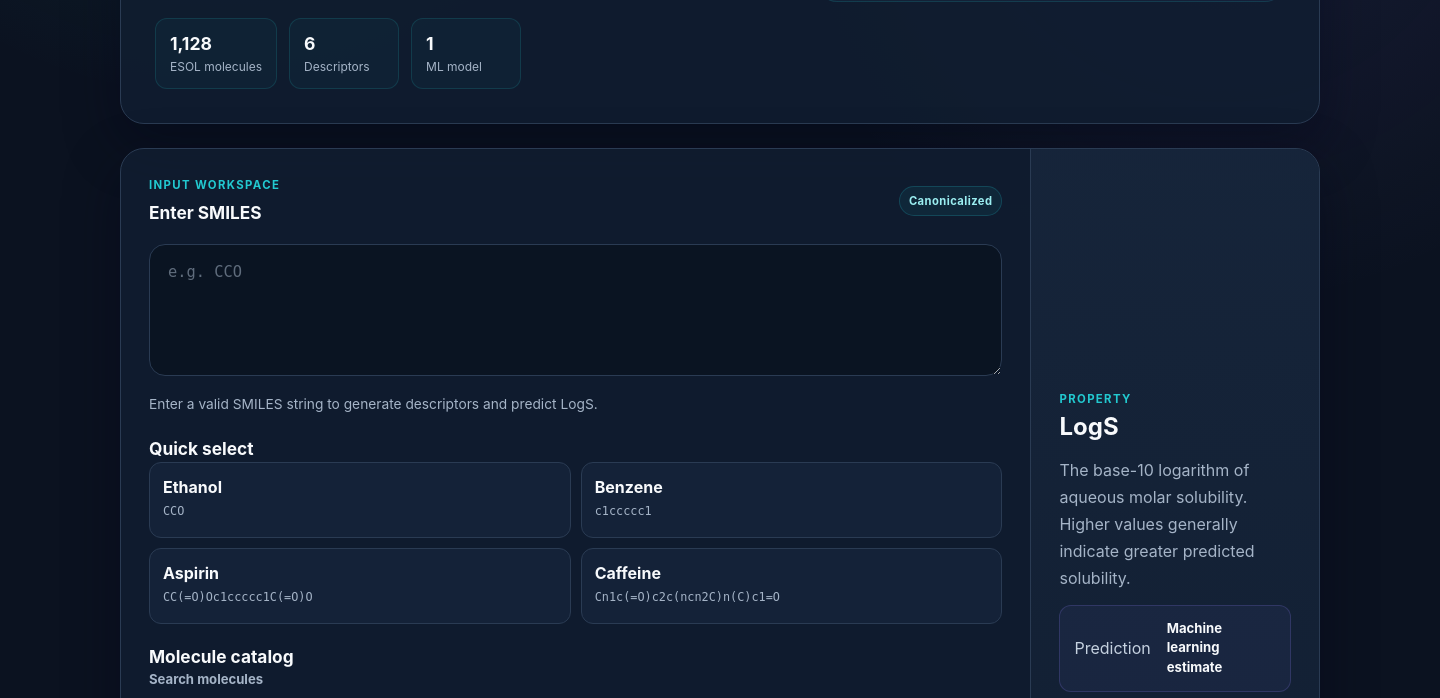
Test: Molecular Property Predictor › formats the ibuprofen formula with subscripts
(page scrolled)
In the text box named "SMILES": coordinates (576, 310) [149,244,1002,376], type "CC(C)Cc1ccc(C(C)C(=O)O)cc1"
(page scrolled)
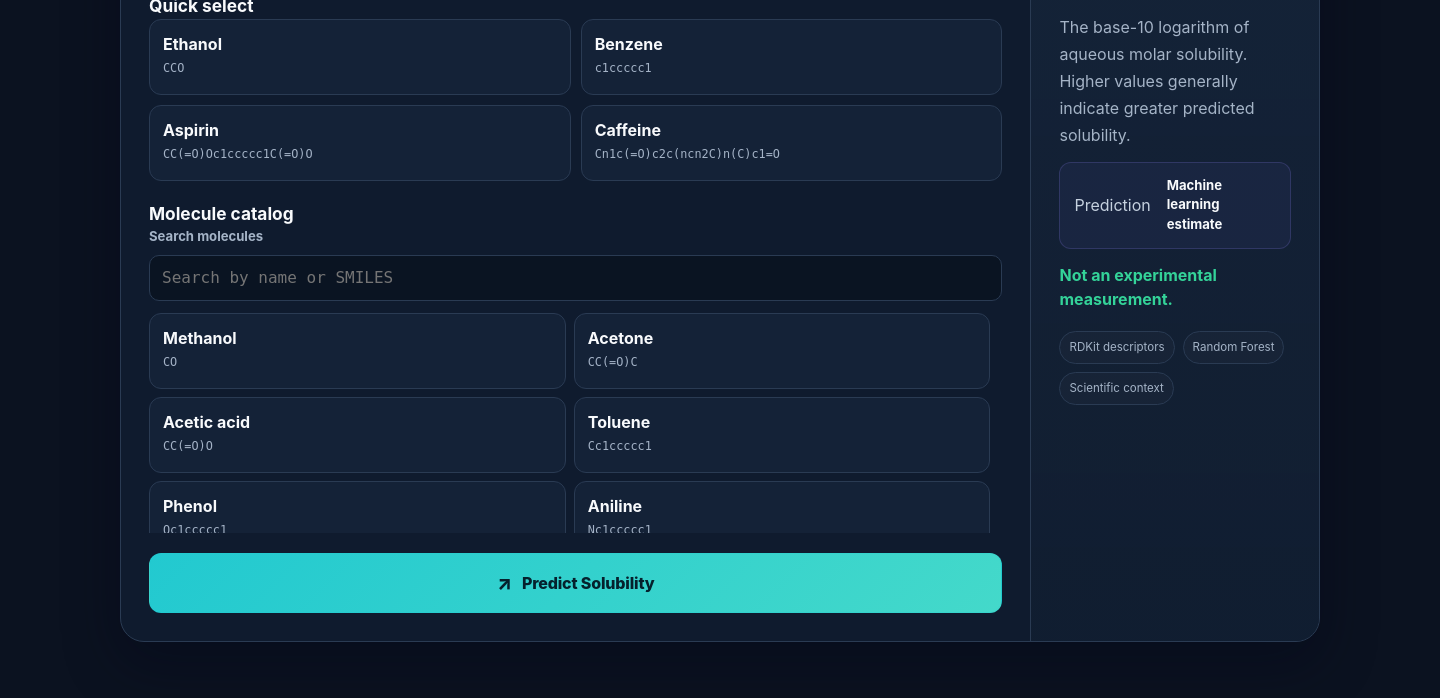
Click the button "↗ Predict Solubility": coordinates (576, 583) [149,553,1002,614]
(page scrolled)
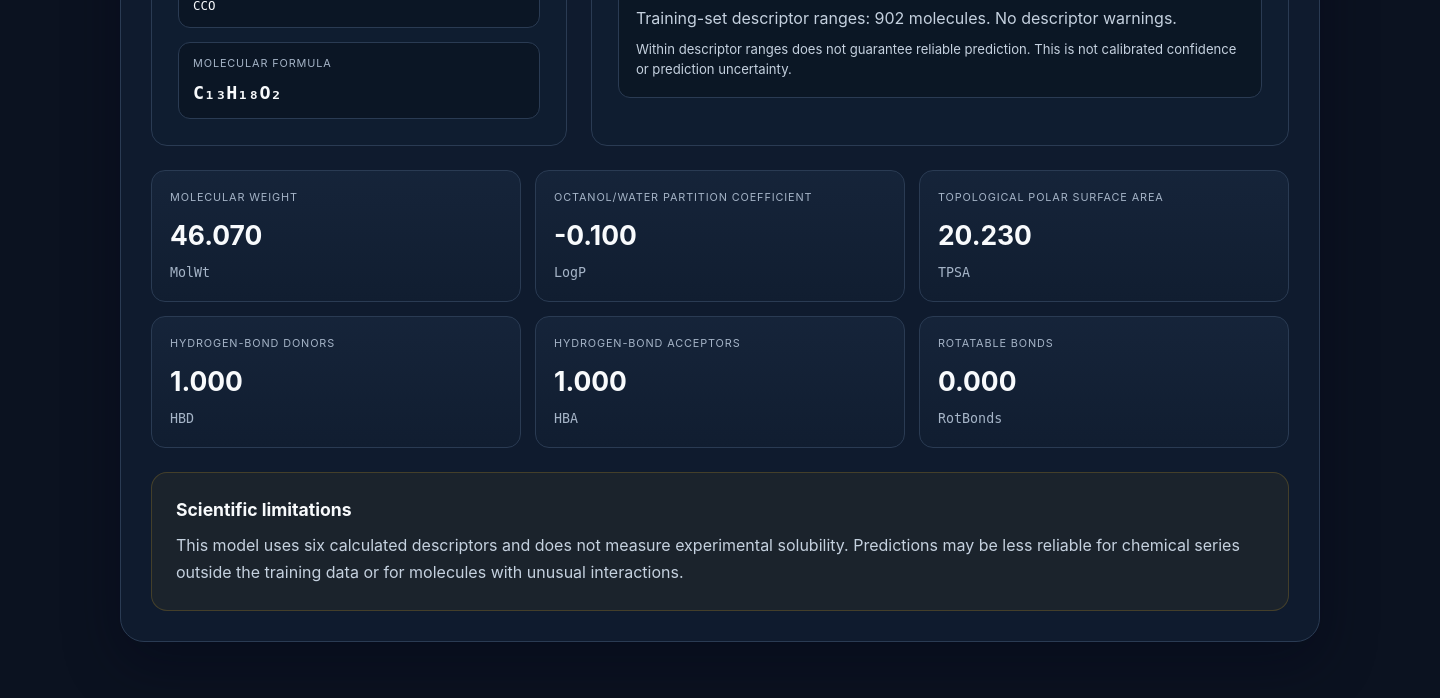
Check: the text "C₁₃H₁₈O₂" is shown, box [193,82,282,103]
